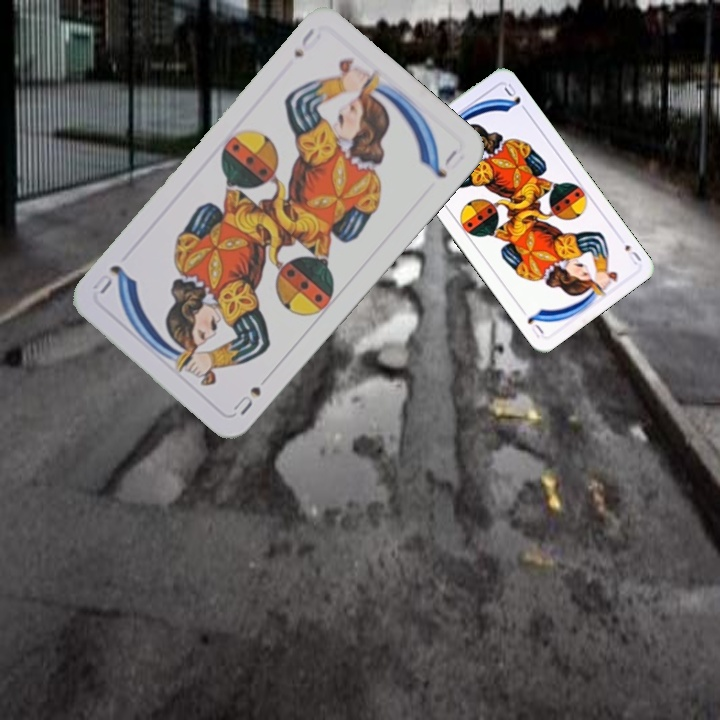SU: (289, 24, 324, 61), (229, 382, 264, 418), (621, 240, 644, 267)
